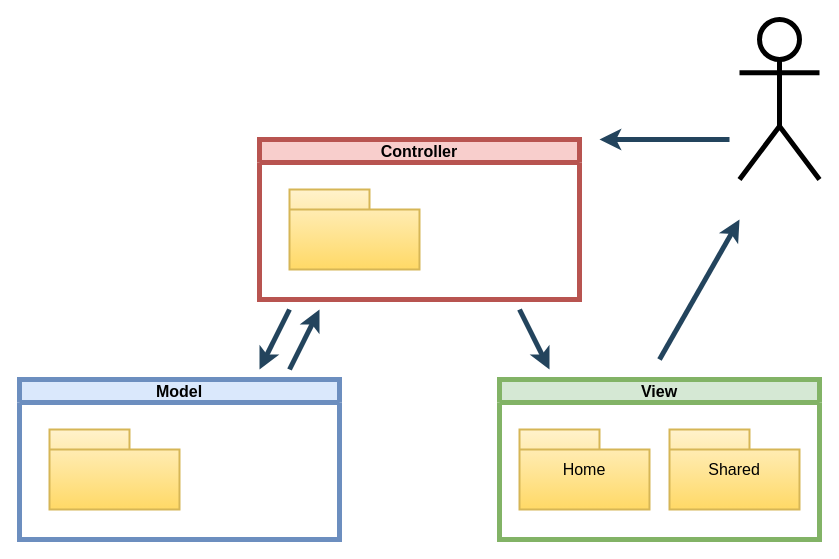
Image size: 839x559. Some labels were removed from this diagram. The shapes that lost their labels are listed below. From the top down, each one's centre as x and y in pixels, then its label:
pixel 779 99: Client
pixel 354 229: UseCases
pixel 114 469: Entities
